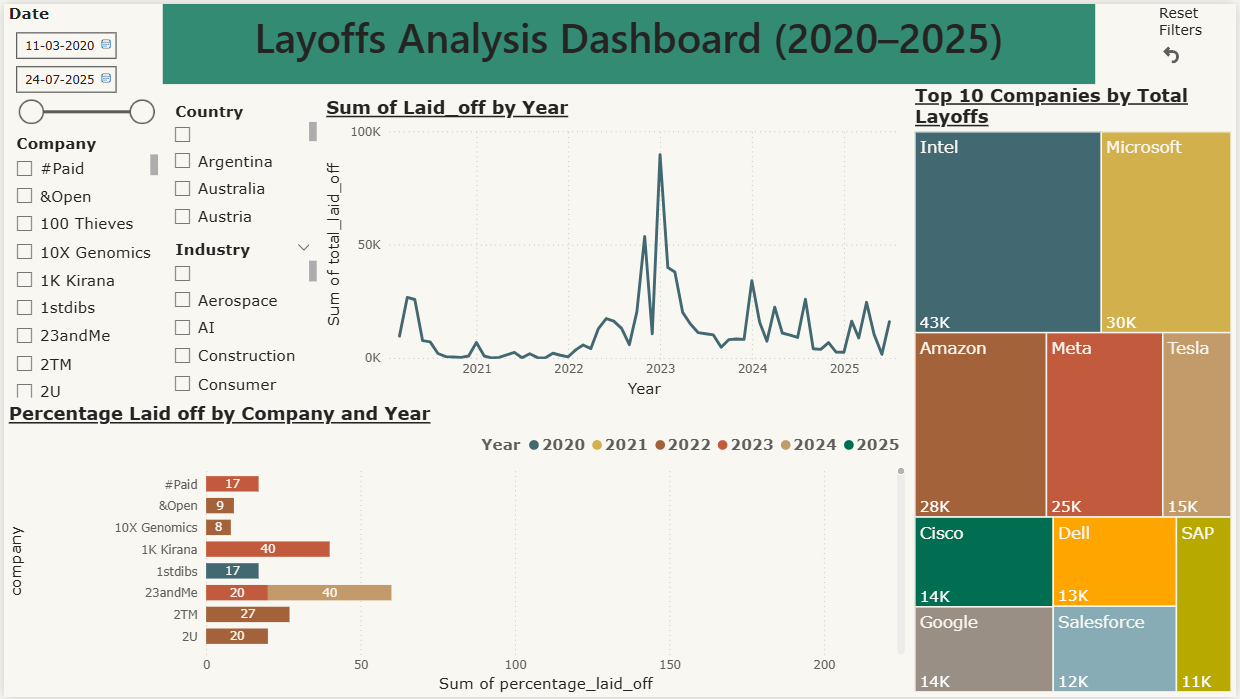

This screenshot's page, from the dashboard's own definition file:
{"tool":"powerbi","page":{"name":"Page 1","canvas":[1280,720],"ordinal":0},"visuals":[{"type":"barChart","title":"Percentage Laid off by Company and Year","fields":{"Category":["layoffs_cleaned.company"],"Y":["Sum(layoffs_cleaned.percentage_laid_off)"],"Series":["layoffs_cleaned.date.Variation.Date Hierarchy.Year"]},"box":[0,413.8,941.2,306.1],"z":0},{"type":"lineChart","title":"Sum of Laid_off by Year","fields":{"Y":["Sum(layoffs_cleaned.total_laid_off)"],"Category":["layoffs_cleaned.date.Variation.Date Hierarchy.Year","layoffs_cleaned.date.Variation.Date Hierarchy.Month"]},"box":[330.5,96.7,611.3,317],"z":1000},{"type":"slicer","fields":{"Values":["layoffs_cleaned.company"]},"box":[0,130.4,164.7,284],"z":2000},{"type":"slicer","fields":{"Values":["layoffs_cleaned.industry"]},"box":[165.2,240,165.2,173.9],"z":3000},{"type":"slicer","title":"Date","fields":{"Values":["layoffs_cleaned.date"]},"box":[0,0,164.7,130.4],"z":4000},{"type":"treemap","title":"Top 10 Companies by Total Layoffs","fields":{"Group":["layoffs_cleaned.company"],"Values":["layoffs_cleaned.Total Layoffs"]},"box":[941.7,83.3,338.5,636.8],"z":5000},{"type":"slicer","fields":{"Values":["layoffs_cleaned.country"]},"box":[165.2,96.3,165.2,143.7],"z":6000},{"type":"actionButton","title":"Reset Filters","box":[1199.7,0,80.6,65.8],"z":6002},{"type":"textbox","box":[165.2,0,968.6,83.3],"z":6003}]}

Visuals, with their boxes in screenshot pixels (x1, y1, x2, y2), scaled from the page's 1280x720 canvas onto the 1240x699 screenshot:
"Percentage Laid off by Company and Year" barChart: region(0, 402, 912, 698)
"Sum of Laid_off by Year" lineChart: region(320, 94, 912, 402)
slicer - layoffs_cleaned.company: region(0, 127, 160, 402)
slicer - layoffs_cleaned.industry: region(160, 233, 320, 402)
"Date" slicer: region(0, 0, 160, 127)
"Top 10 Companies by Total Layoffs" treemap: region(912, 81, 1239, 698)
slicer - layoffs_cleaned.country: region(160, 93, 320, 233)
"Reset Filters" actionButton: region(1162, 0, 1239, 64)
textbox: region(160, 0, 1098, 81)
